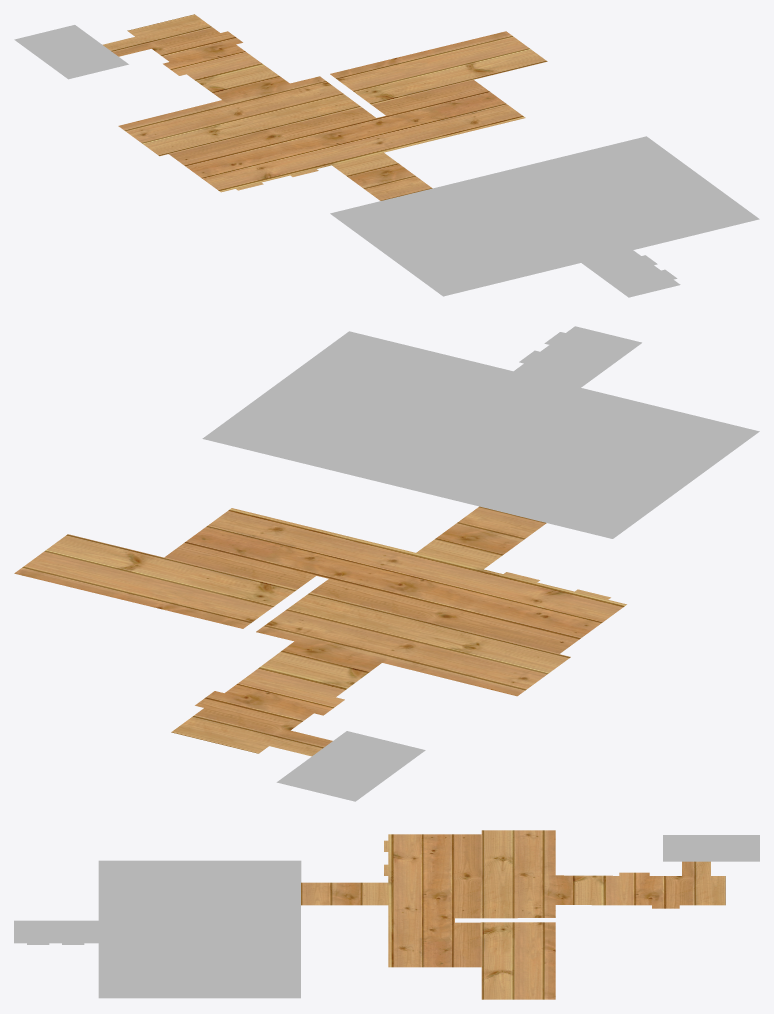
Rendered from Floor_Full02.FBX.
3 renders of one model, top to bottom at view 1: azimuth 30°, elevation 25°; view 2: azimuth 150°, elevation 25°; view 3: azimuth 270°, elevation 25°, orthographic. The views are drawn at different scales.
Visible parts, largest first — view 1: FloorWooden001, FloorCarpet002, FloorCarpet001; view 2: FloorWooden001, FloorCarpet002, FloorCarpet001; view 3: FloorWooden001, FloorCarpet002, FloorCarpet001.
Part boxes in pixels (left/top/right/bottom): FloorWooden001: left=102, top=14, right=547, bottom=200; FloorCarpet002: left=330, top=136, right=759, bottom=297; FloorCarpet001: left=14, top=25, right=128, bottom=79; FloorWooden001: left=14, top=506, right=626, bottom=756; FloorCarpet002: left=202, top=326, right=759, bottom=538; FloorCarpet001: left=276, top=731, right=425, bottom=801; FloorWooden001: left=301, top=830, right=725, bottom=999; FloorCarpet002: left=14, top=860, right=301, bottom=998; FloorCarpet001: left=663, top=835, right=759, bottom=861.
Bounding box in the file's own units: 3536 × 4.23 × 6596.
